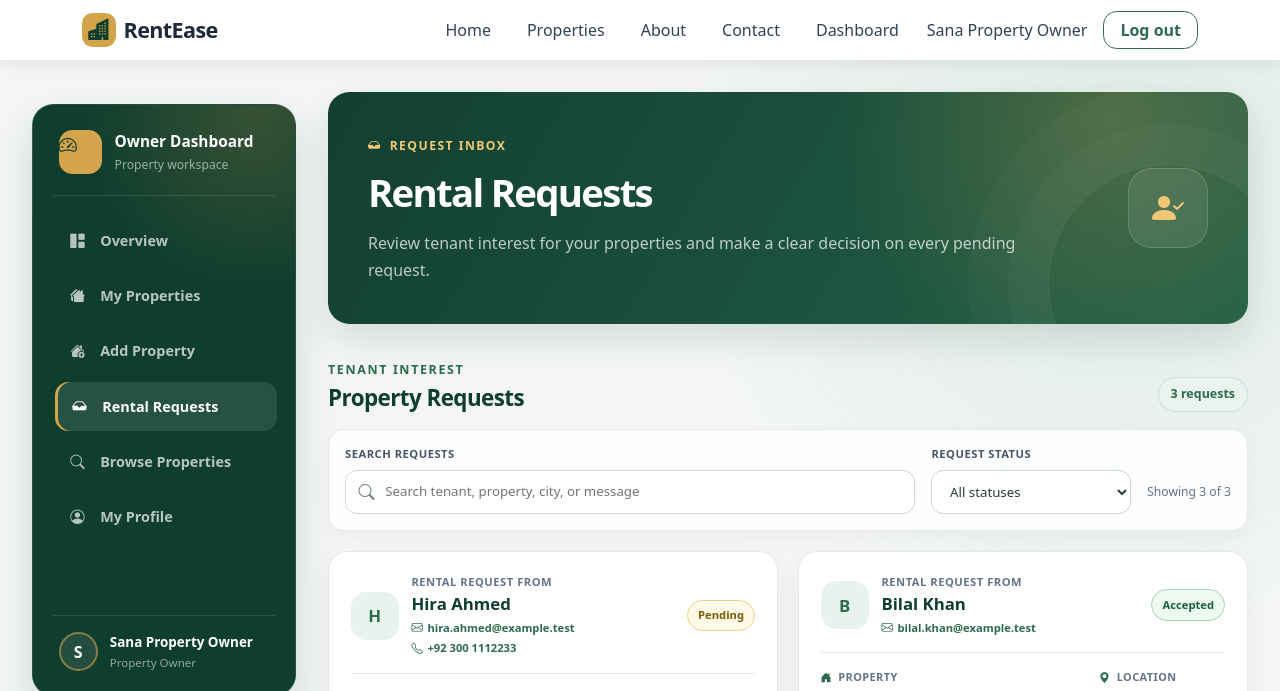
Test case: Owner rental requests page › searches and filters requests without changing the owner-scoped dataset
The width and height of the screenshot is (1280, 691).
Type "Bahria Town" into the search field labelled "Search requests" at (630, 492), box [345, 470, 915, 514]
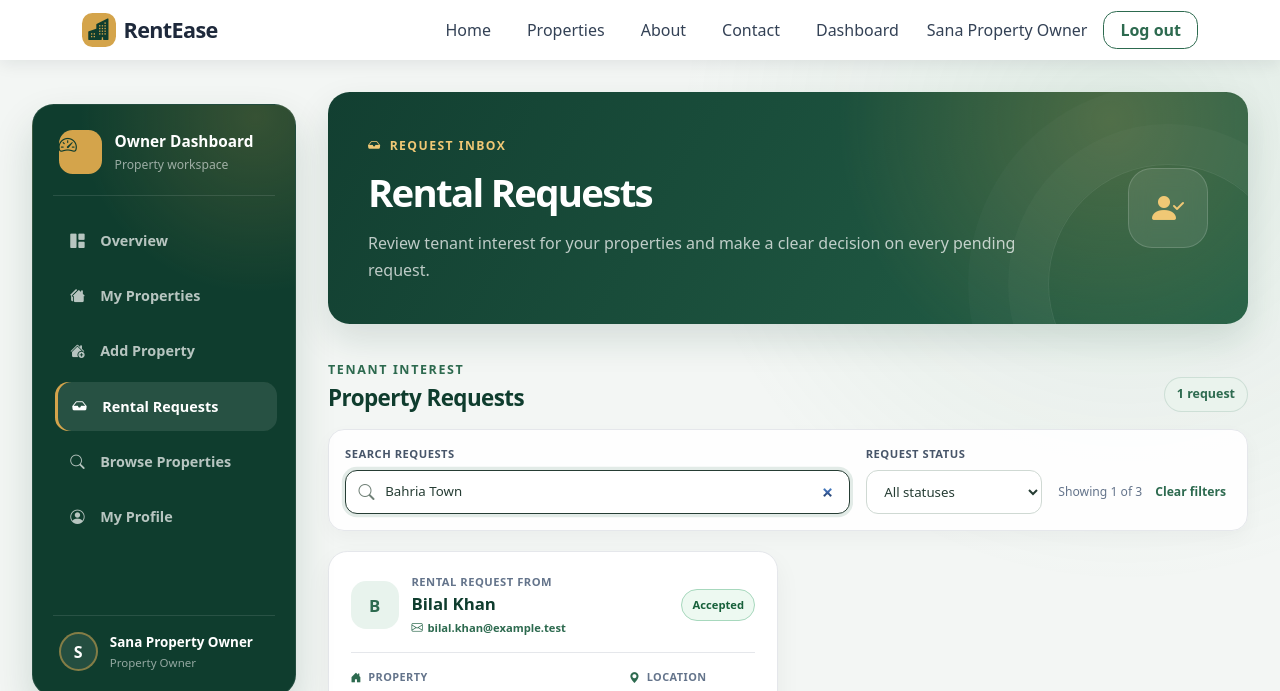
Expected: the heading "Bilal Khan" is shown, [411, 592, 496, 615]
Expected: the heading "Hira Ahmed" is gone
Clear the search field labelled "Search requests" at (597, 492), box [345, 470, 850, 514]
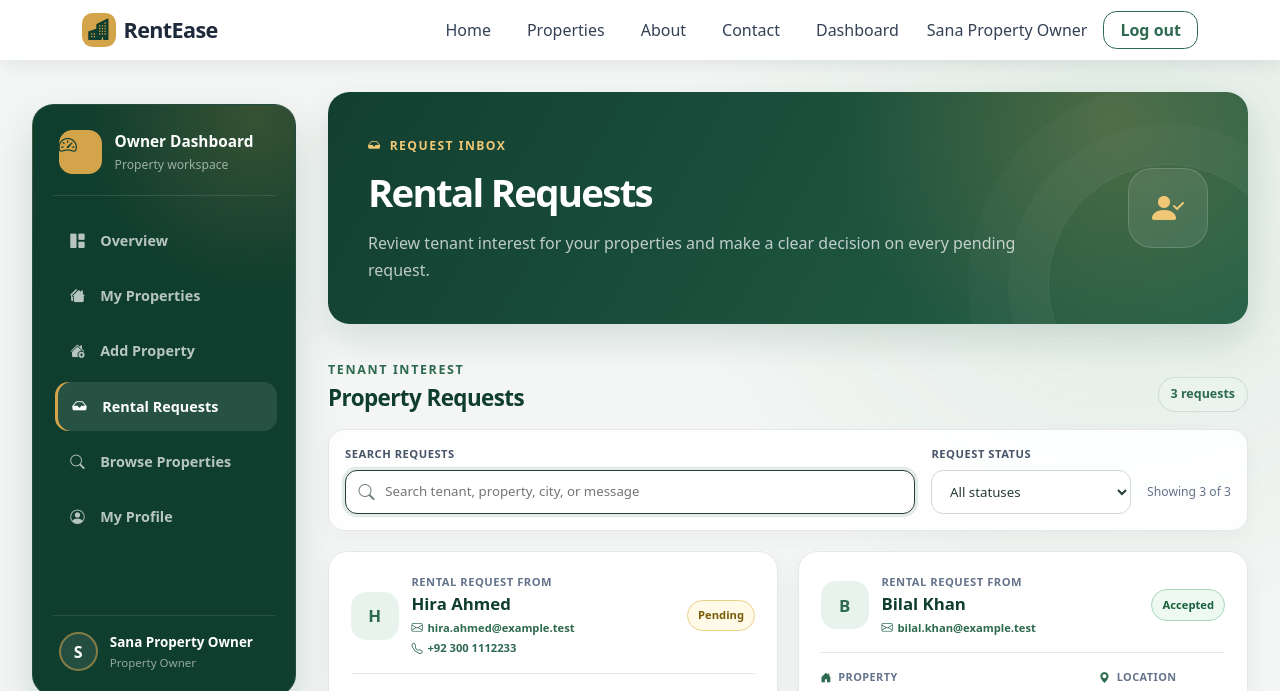
Select "Pending" in the dropdown labelled "Request status" at (1031, 492), box [931, 470, 1131, 514]
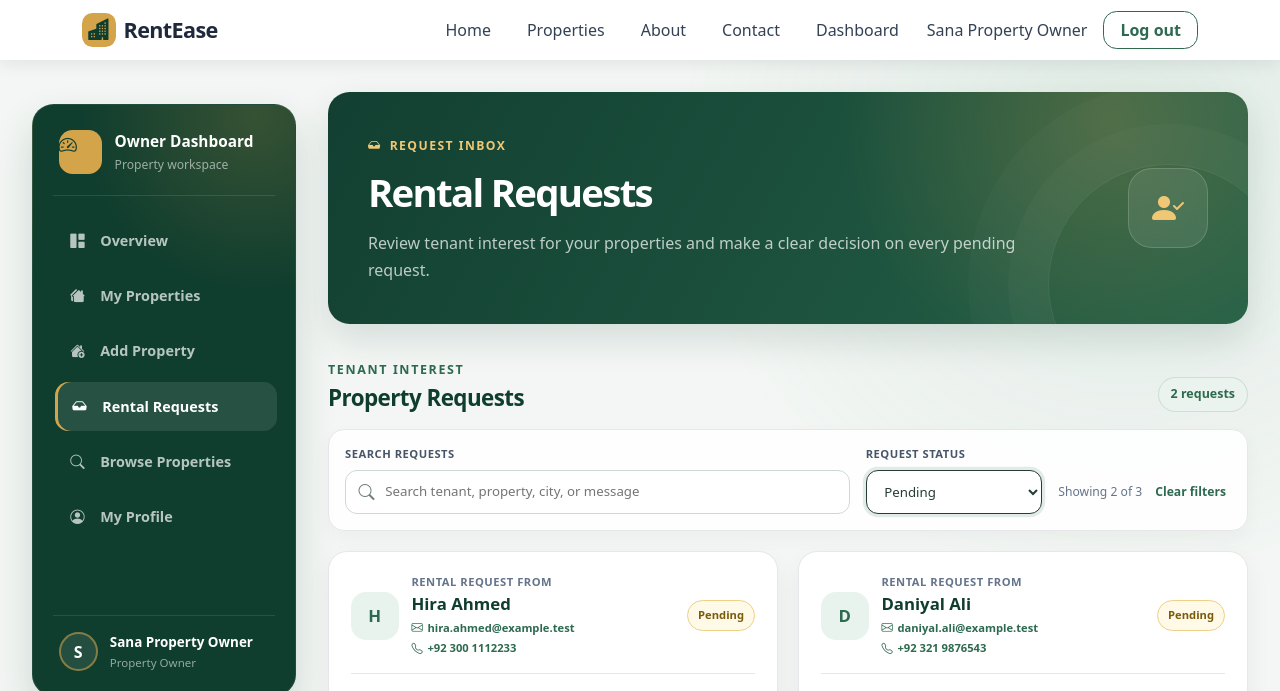
Expected: the heading "Hira Ahmed" is shown, [411, 592, 511, 615]
Expected: the text "Showing 2 of 3" is shown, [1058, 483, 1142, 501]
Expected: the heading "Bilal Khan" is gone
Type "no matching tenant" into the search field labelled "Search requests" at (597, 492), box [345, 470, 850, 514]
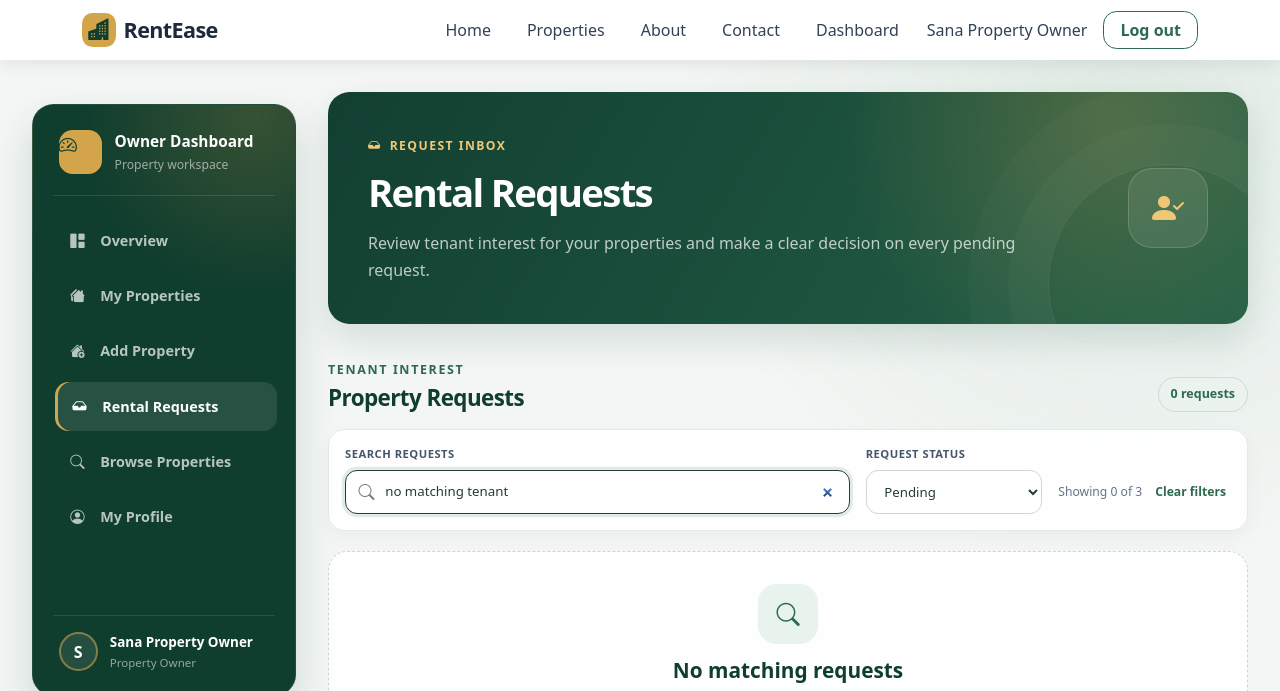
Expected: the heading "No matching requests" is shown, [673, 658, 903, 683]
Click the button "Clear filters" at (1191, 492), box [1150, 478, 1231, 506]
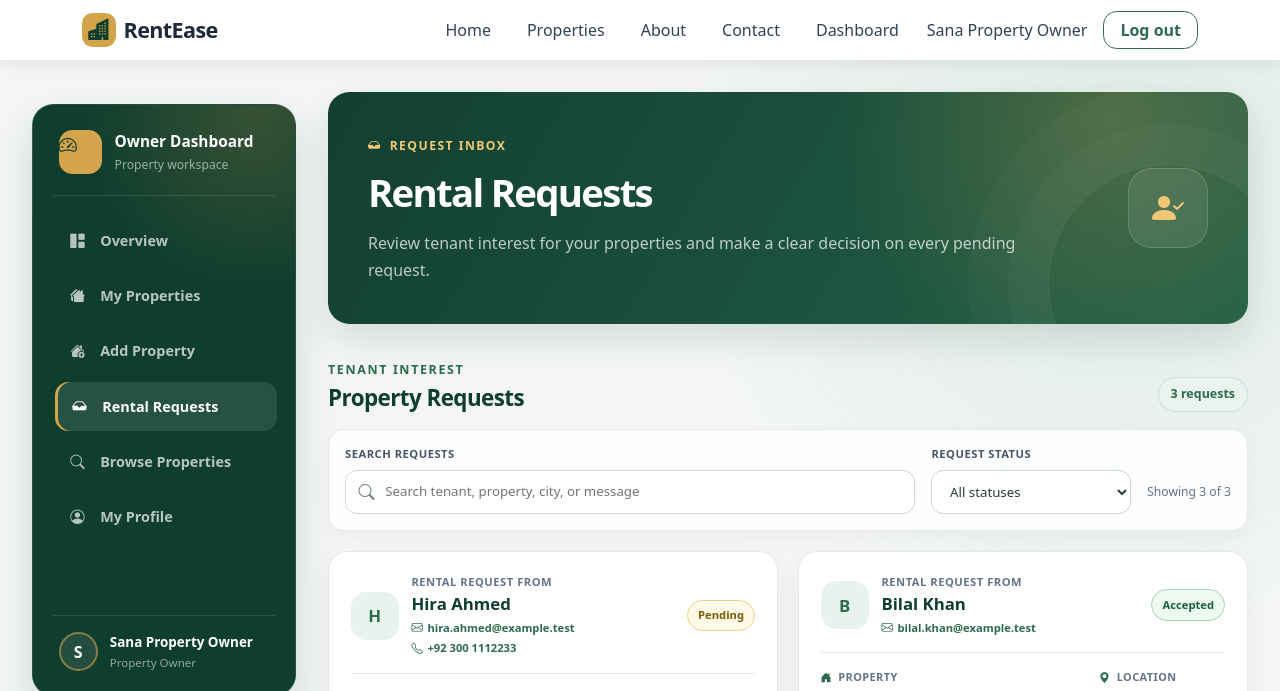
Expected: the heading "Bilal Khan" is shown, [881, 592, 966, 615]
